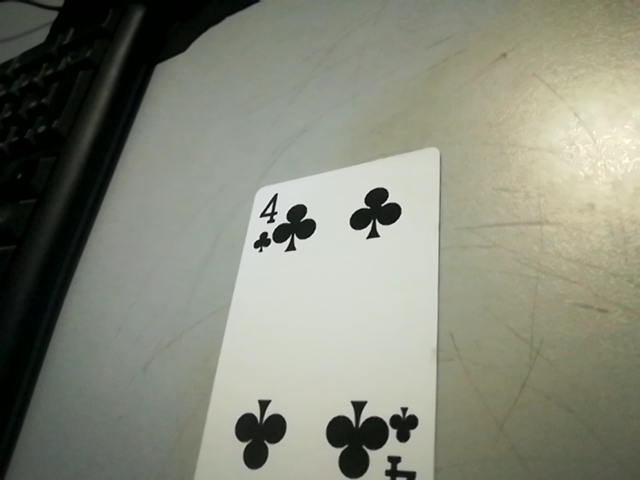mh 4: (381, 402, 430, 480), (245, 190, 289, 257)
